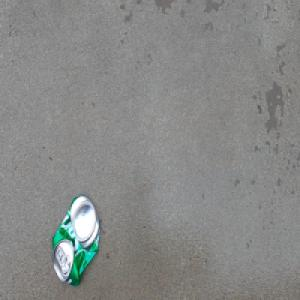SodaCan: (49, 192, 100, 289)
